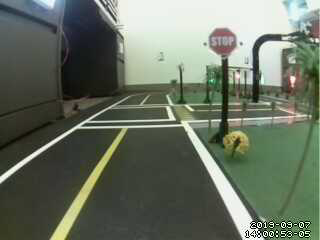Stop_Sign: (202, 27, 239, 64)
